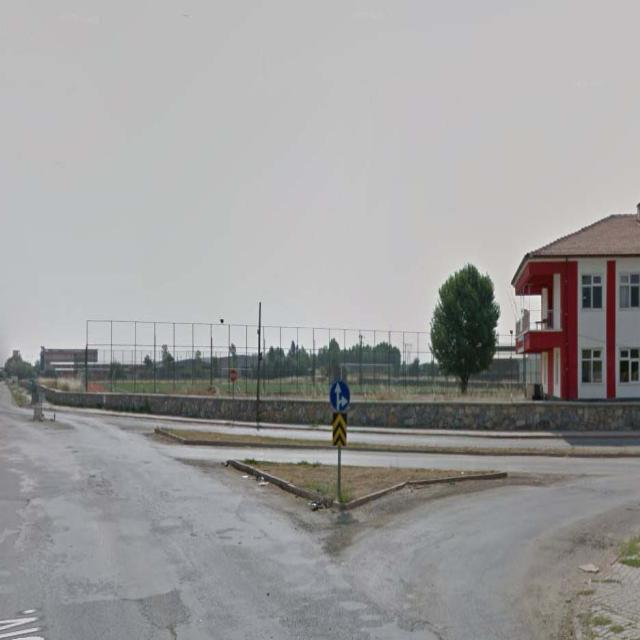ilerisag: (332, 380, 351, 412)
